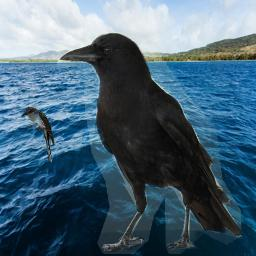Crow: (57, 32, 243, 254)
Cuckoo: (21, 107, 55, 162)
